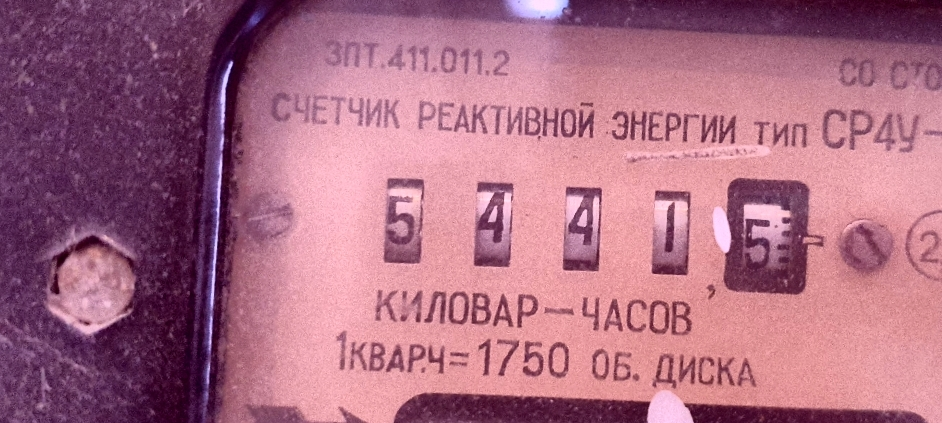1: (654, 198, 683, 257)
4: (560, 186, 602, 254), (472, 184, 512, 248)
5: (737, 211, 777, 276), (379, 190, 422, 250)
screen: (354, 123, 839, 327)
